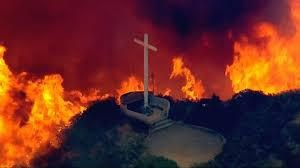fire: (226, 5, 299, 99), (166, 56, 206, 101)
